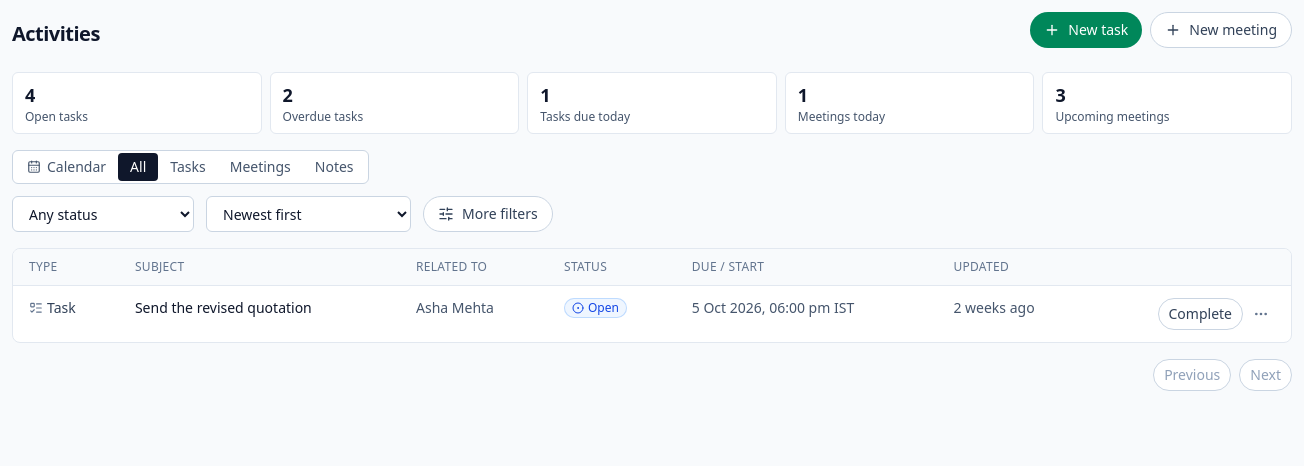
Test: cached list rows follow writes made elsewhere (P2-1) › a row just completed stops offering Complete before the list reloads
Click the button with aria-label "Complete Send the revised quotation": (1200, 314) [1158, 298, 1243, 330]
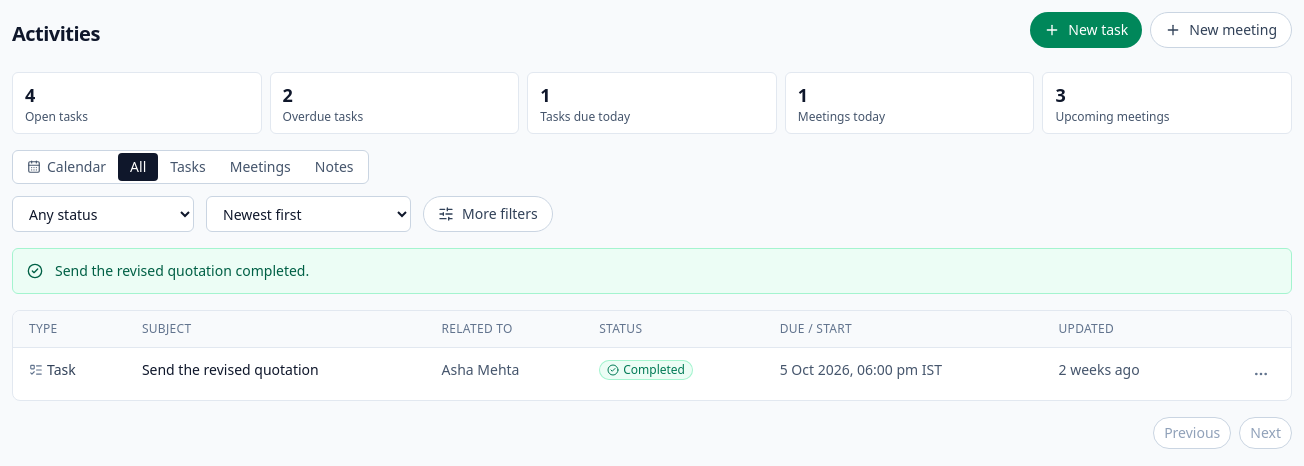
Expected: the text "Send the revised quotation completed." is shown, [55, 261, 309, 280]
Expected: the text "Completed" is shown, [599, 360, 693, 380]
